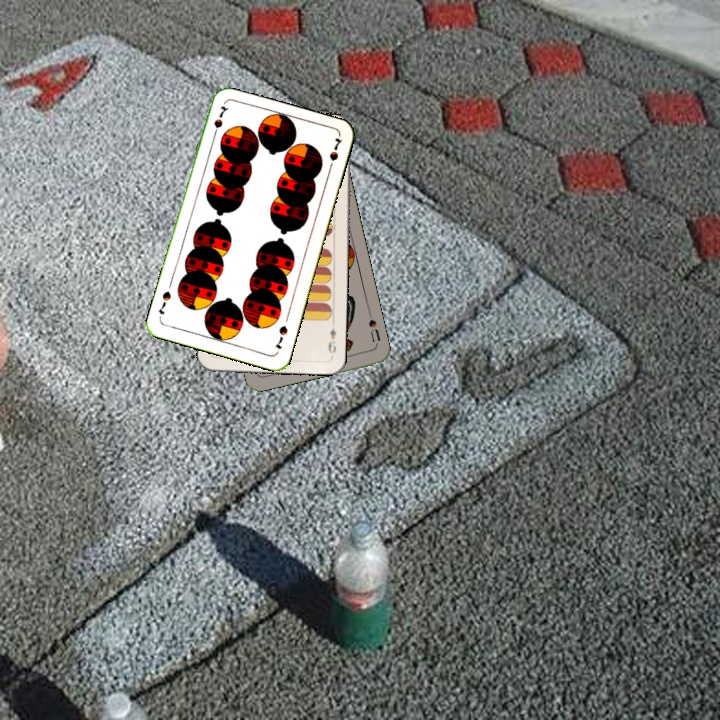E9: (324, 318, 339, 358)
S7: (209, 102, 231, 141), (271, 321, 290, 351)
SU: (364, 308, 383, 348)
